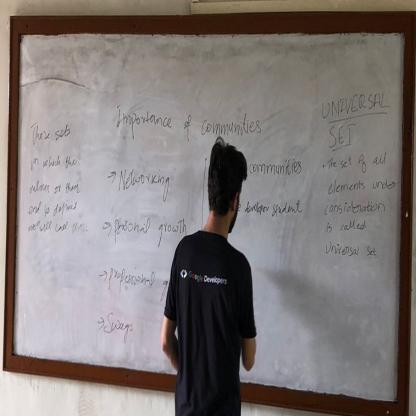Handwritten text: (109, 99, 264, 148), (109, 212, 189, 253), (117, 160, 175, 205), (317, 86, 393, 115), (102, 260, 158, 294), (242, 194, 306, 220), (249, 154, 308, 182), (324, 176, 398, 196), (24, 118, 76, 146), (25, 174, 82, 198), (104, 302, 135, 346), (23, 148, 78, 172), (323, 237, 380, 260), (324, 154, 392, 171), (322, 197, 388, 214), (25, 199, 80, 218), (321, 217, 373, 235), (328, 119, 357, 147)
Lecturer: (156, 131, 264, 409)
Whiteboard: (8, 19, 409, 410)
